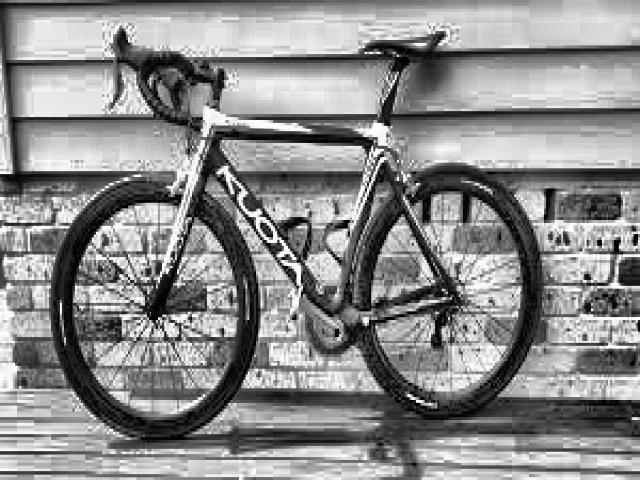pedal: (290, 287, 304, 326)
saddle: (361, 34, 448, 64)
sti_shifter: (108, 24, 134, 112)
wheel: (49, 170, 262, 447), (349, 162, 545, 421)
